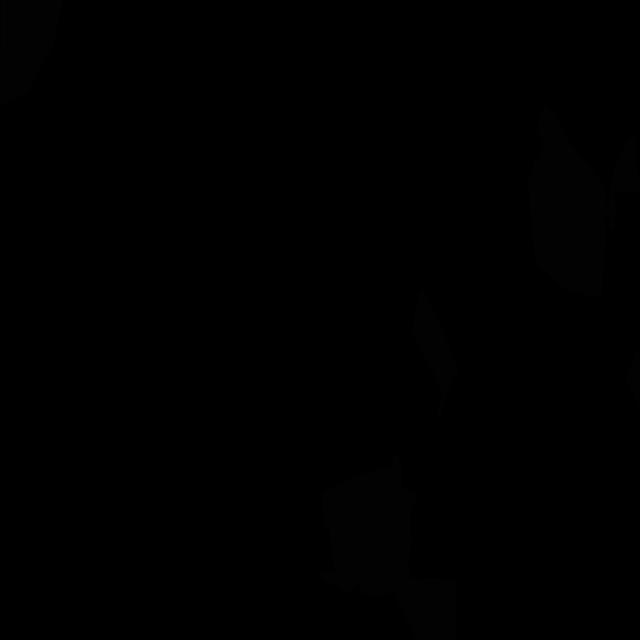cardboard: (320, 449, 456, 640), (528, 103, 606, 296), (0, 0, 64, 108), (412, 289, 459, 419), (605, 129, 640, 231), (625, 345, 640, 409)
